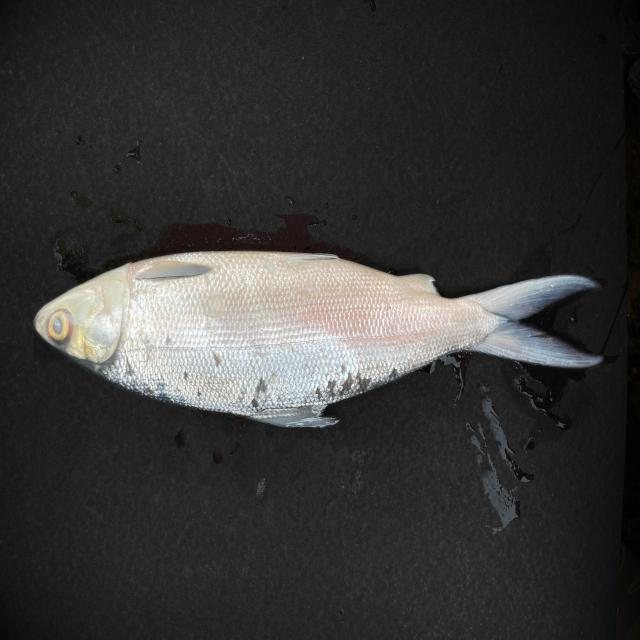800 g: (34, 250, 604, 429)
